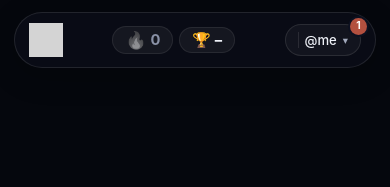
Scenario: Header notification badge on the username pill › shows the same badge on the Notifications button inside the open menu
The image size is (390, 187).
Click the button "@me ▾" at (323, 40), box left=284, top=24, right=361, bottom=56
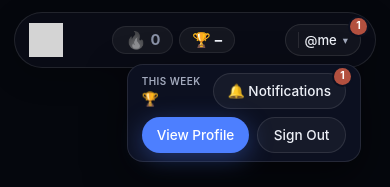
Check: the number of messages with class "notif-badge" is 2, box left=350, top=18, right=367, bottom=35; left=334, top=68, right=351, bottom=85
